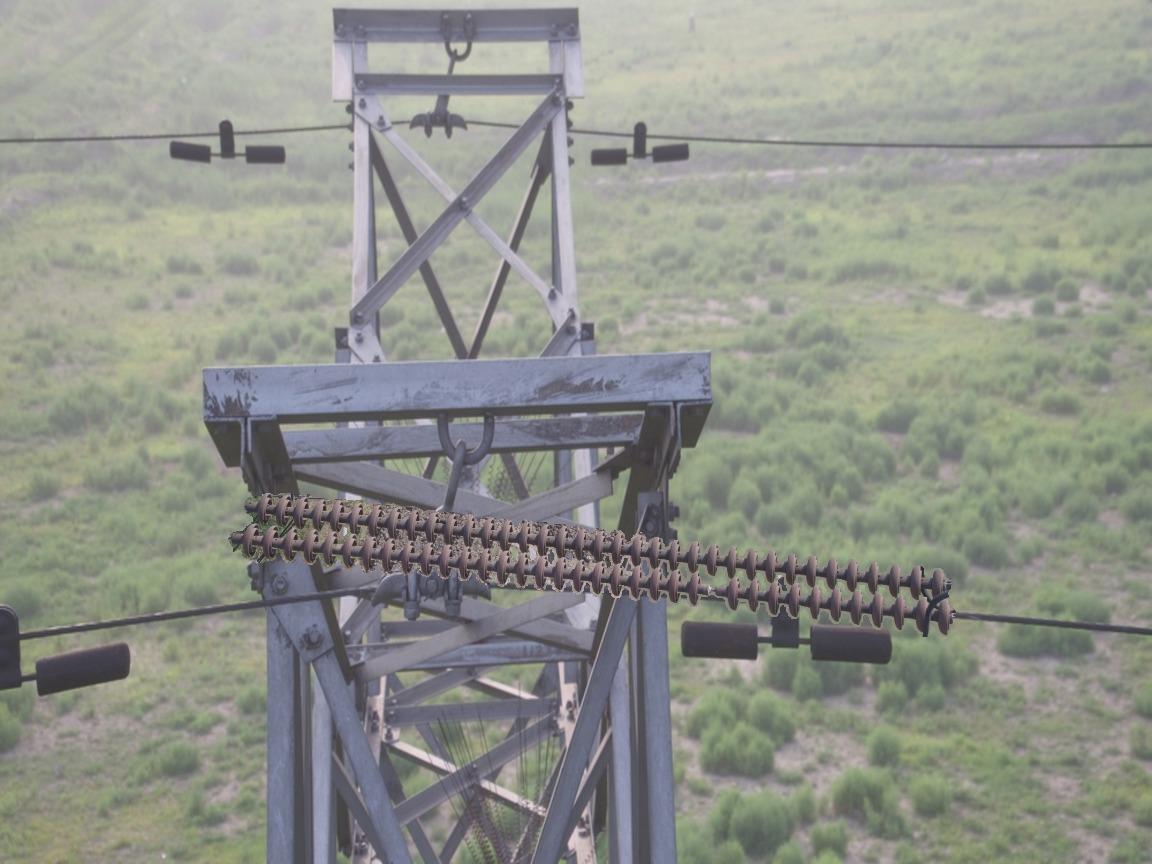defect: (680, 570, 747, 615)
